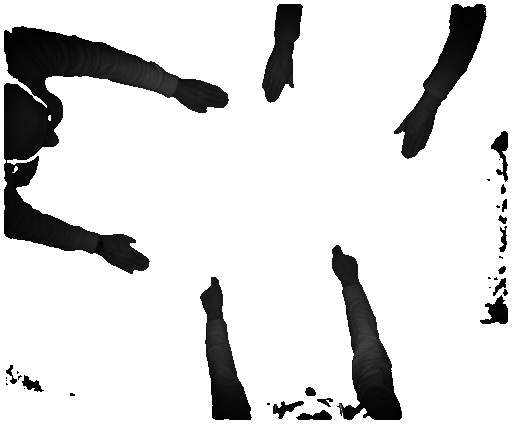hand: (99, 232, 151, 279), (392, 108, 437, 159), (178, 80, 231, 119), (258, 49, 295, 103), (328, 240, 363, 283), (200, 272, 223, 314)
